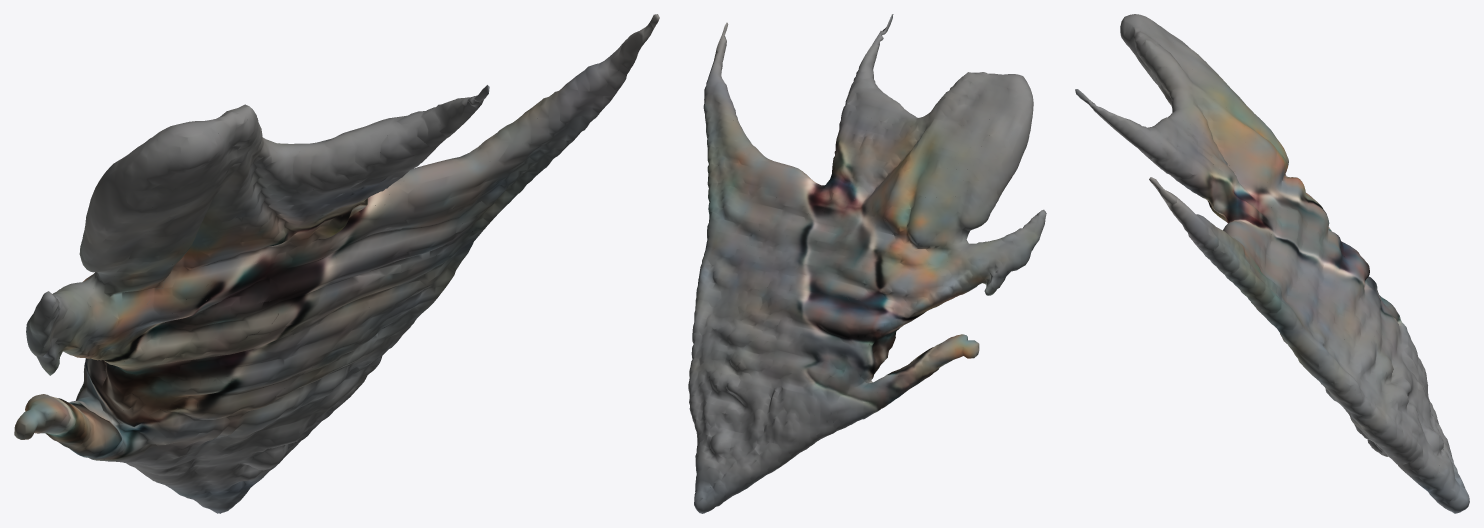
Rendered from pterophyllum-scalare.glb.
The picture shows the model from 3 angles, left to right: view 1: azimuth 30°, elevation 25°; view 2: azimuth 150°, elevation 25°; view 3: azimuth 270°, elevation 25°; orthographic projection. The views are drawn at different scales.
Parts seen in each view (by area): view 1: world; view 2: world; view 3: world.
Part boxes in pixels (x1,y1,x2,y2): world: (14, 14, 659, 513); world: (688, 14, 1046, 513); world: (1075, 14, 1469, 513).
Bounding box in the file's own units: 0.561 × 0.5981 × 0.5142.
Materials: 1 (1 with a texture image).
